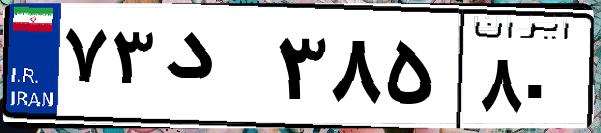0: (525, 38, 570, 115)
3: (270, 28, 330, 110), (110, 28, 158, 98)
5: (385, 28, 445, 110)
7: (57, 26, 110, 100)
8: (330, 28, 385, 110), (475, 38, 525, 113)
د: (158, 20, 270, 120)
